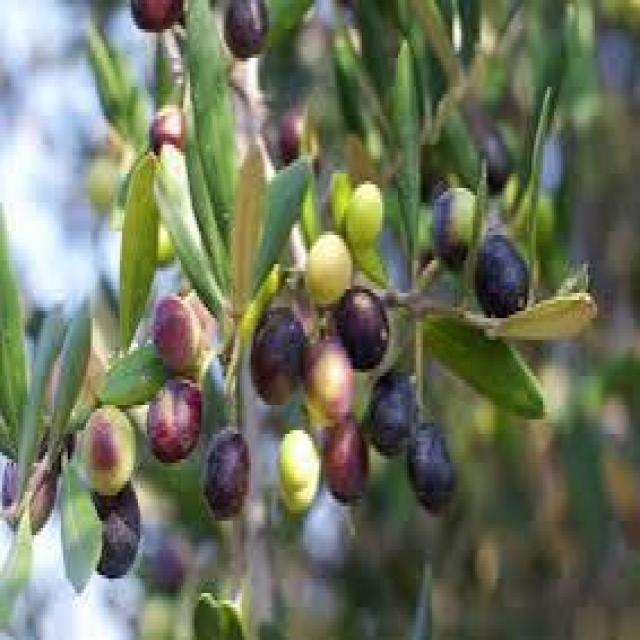Healthy: (251, 304, 308, 401), (332, 286, 396, 369), (79, 405, 136, 495), (473, 227, 527, 315), (147, 380, 203, 460), (364, 369, 416, 452), (408, 422, 455, 513), (203, 427, 247, 521), (307, 336, 353, 424), (152, 289, 199, 374), (274, 430, 322, 511)
